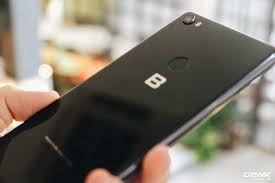bphone: (1, 4, 272, 182)
